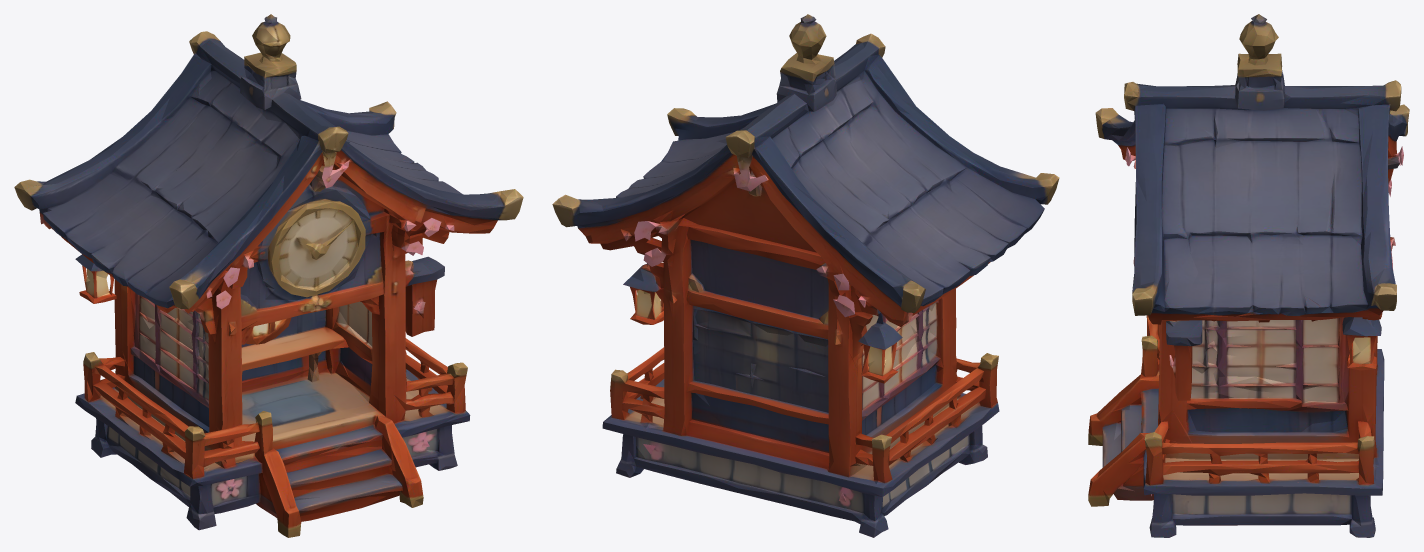
3 renders of one model, left to right at view 1: azimuth 30°, elevation 25°; view 2: azimuth 150°, elevation 25°; view 3: azimuth 270°, elevation 25°, orthographic. The views are drawn at different scales.
Parts seen in each view (by area): view 1: Mesh; view 2: Mesh; view 3: Mesh.
Part boxes in pixels (x1,y1,x2,y2): Mesh: (14, 14, 523, 537); Mesh: (552, 14, 1059, 537); Mesh: (1088, 14, 1409, 537).
Bounding box in the file's own units: 1.66 × 1.88 × 1.2.
Materials: 1 (1 with a texture image).
